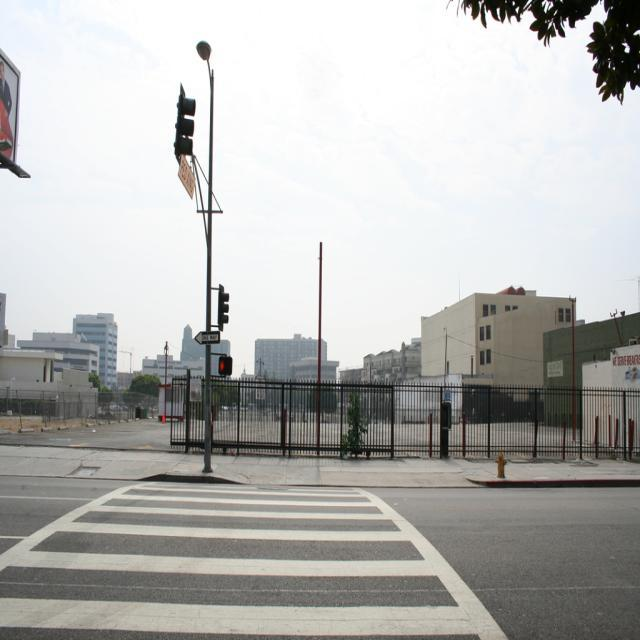off traffic light: (175, 84, 196, 159), (218, 289, 229, 325)
